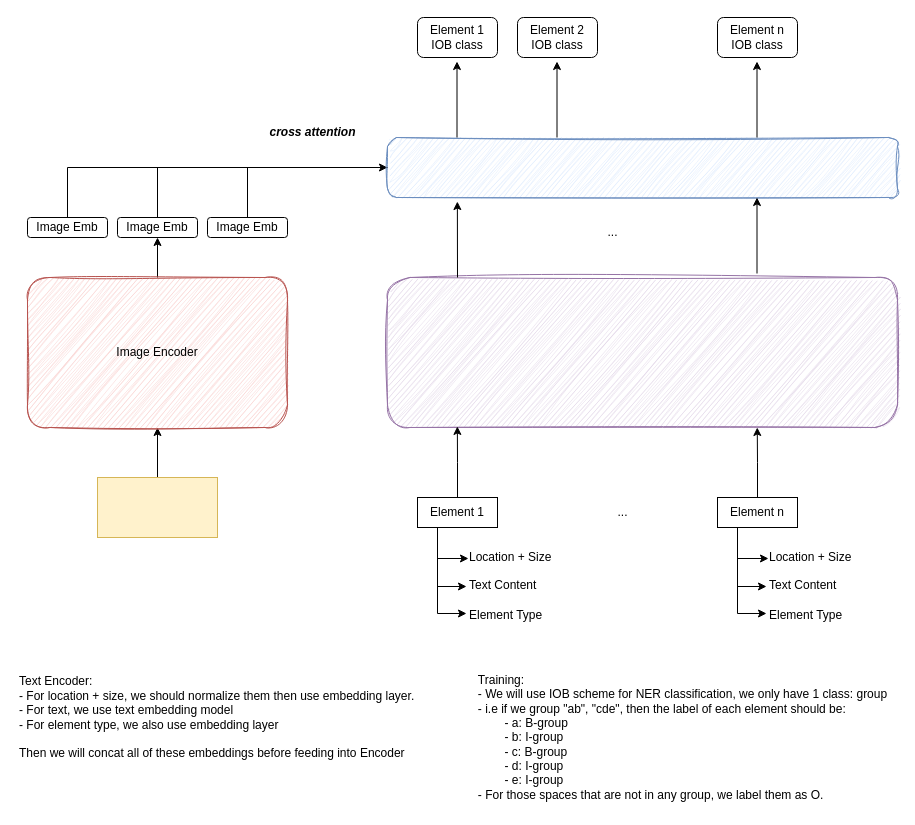
Some shapes in this 915 by 825 pixel diagram are drawn without their labels. The shapes that lost their labels are listed below. From the top down, each one's box as (x1, y1, x2, y2) in pixels, then its label:
(386, 136, 898, 198): NER head
(386, 276, 898, 428): Element Encoder (k transformer encoder layers)
(96, 476, 218, 538): UI Image
